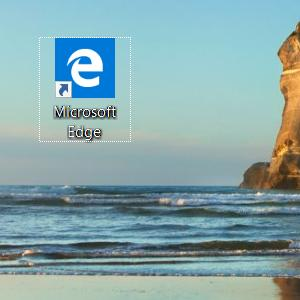edge: (55, 38, 115, 98)
